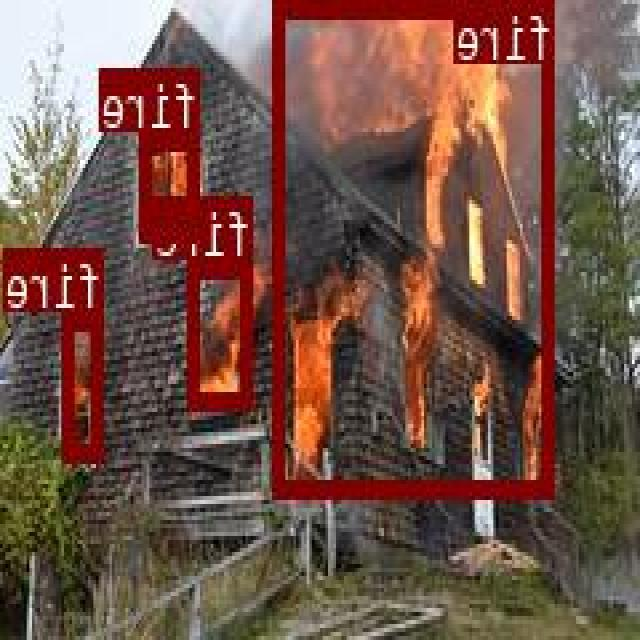fire: (275, 0, 557, 496), (190, 260, 255, 405), (142, 132, 202, 240), (64, 310, 106, 458)
